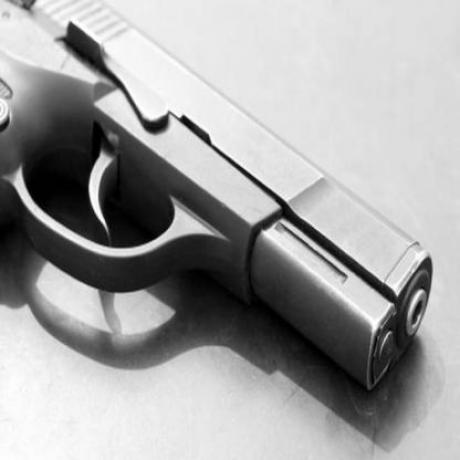weapon: (0, 0, 423, 408)
